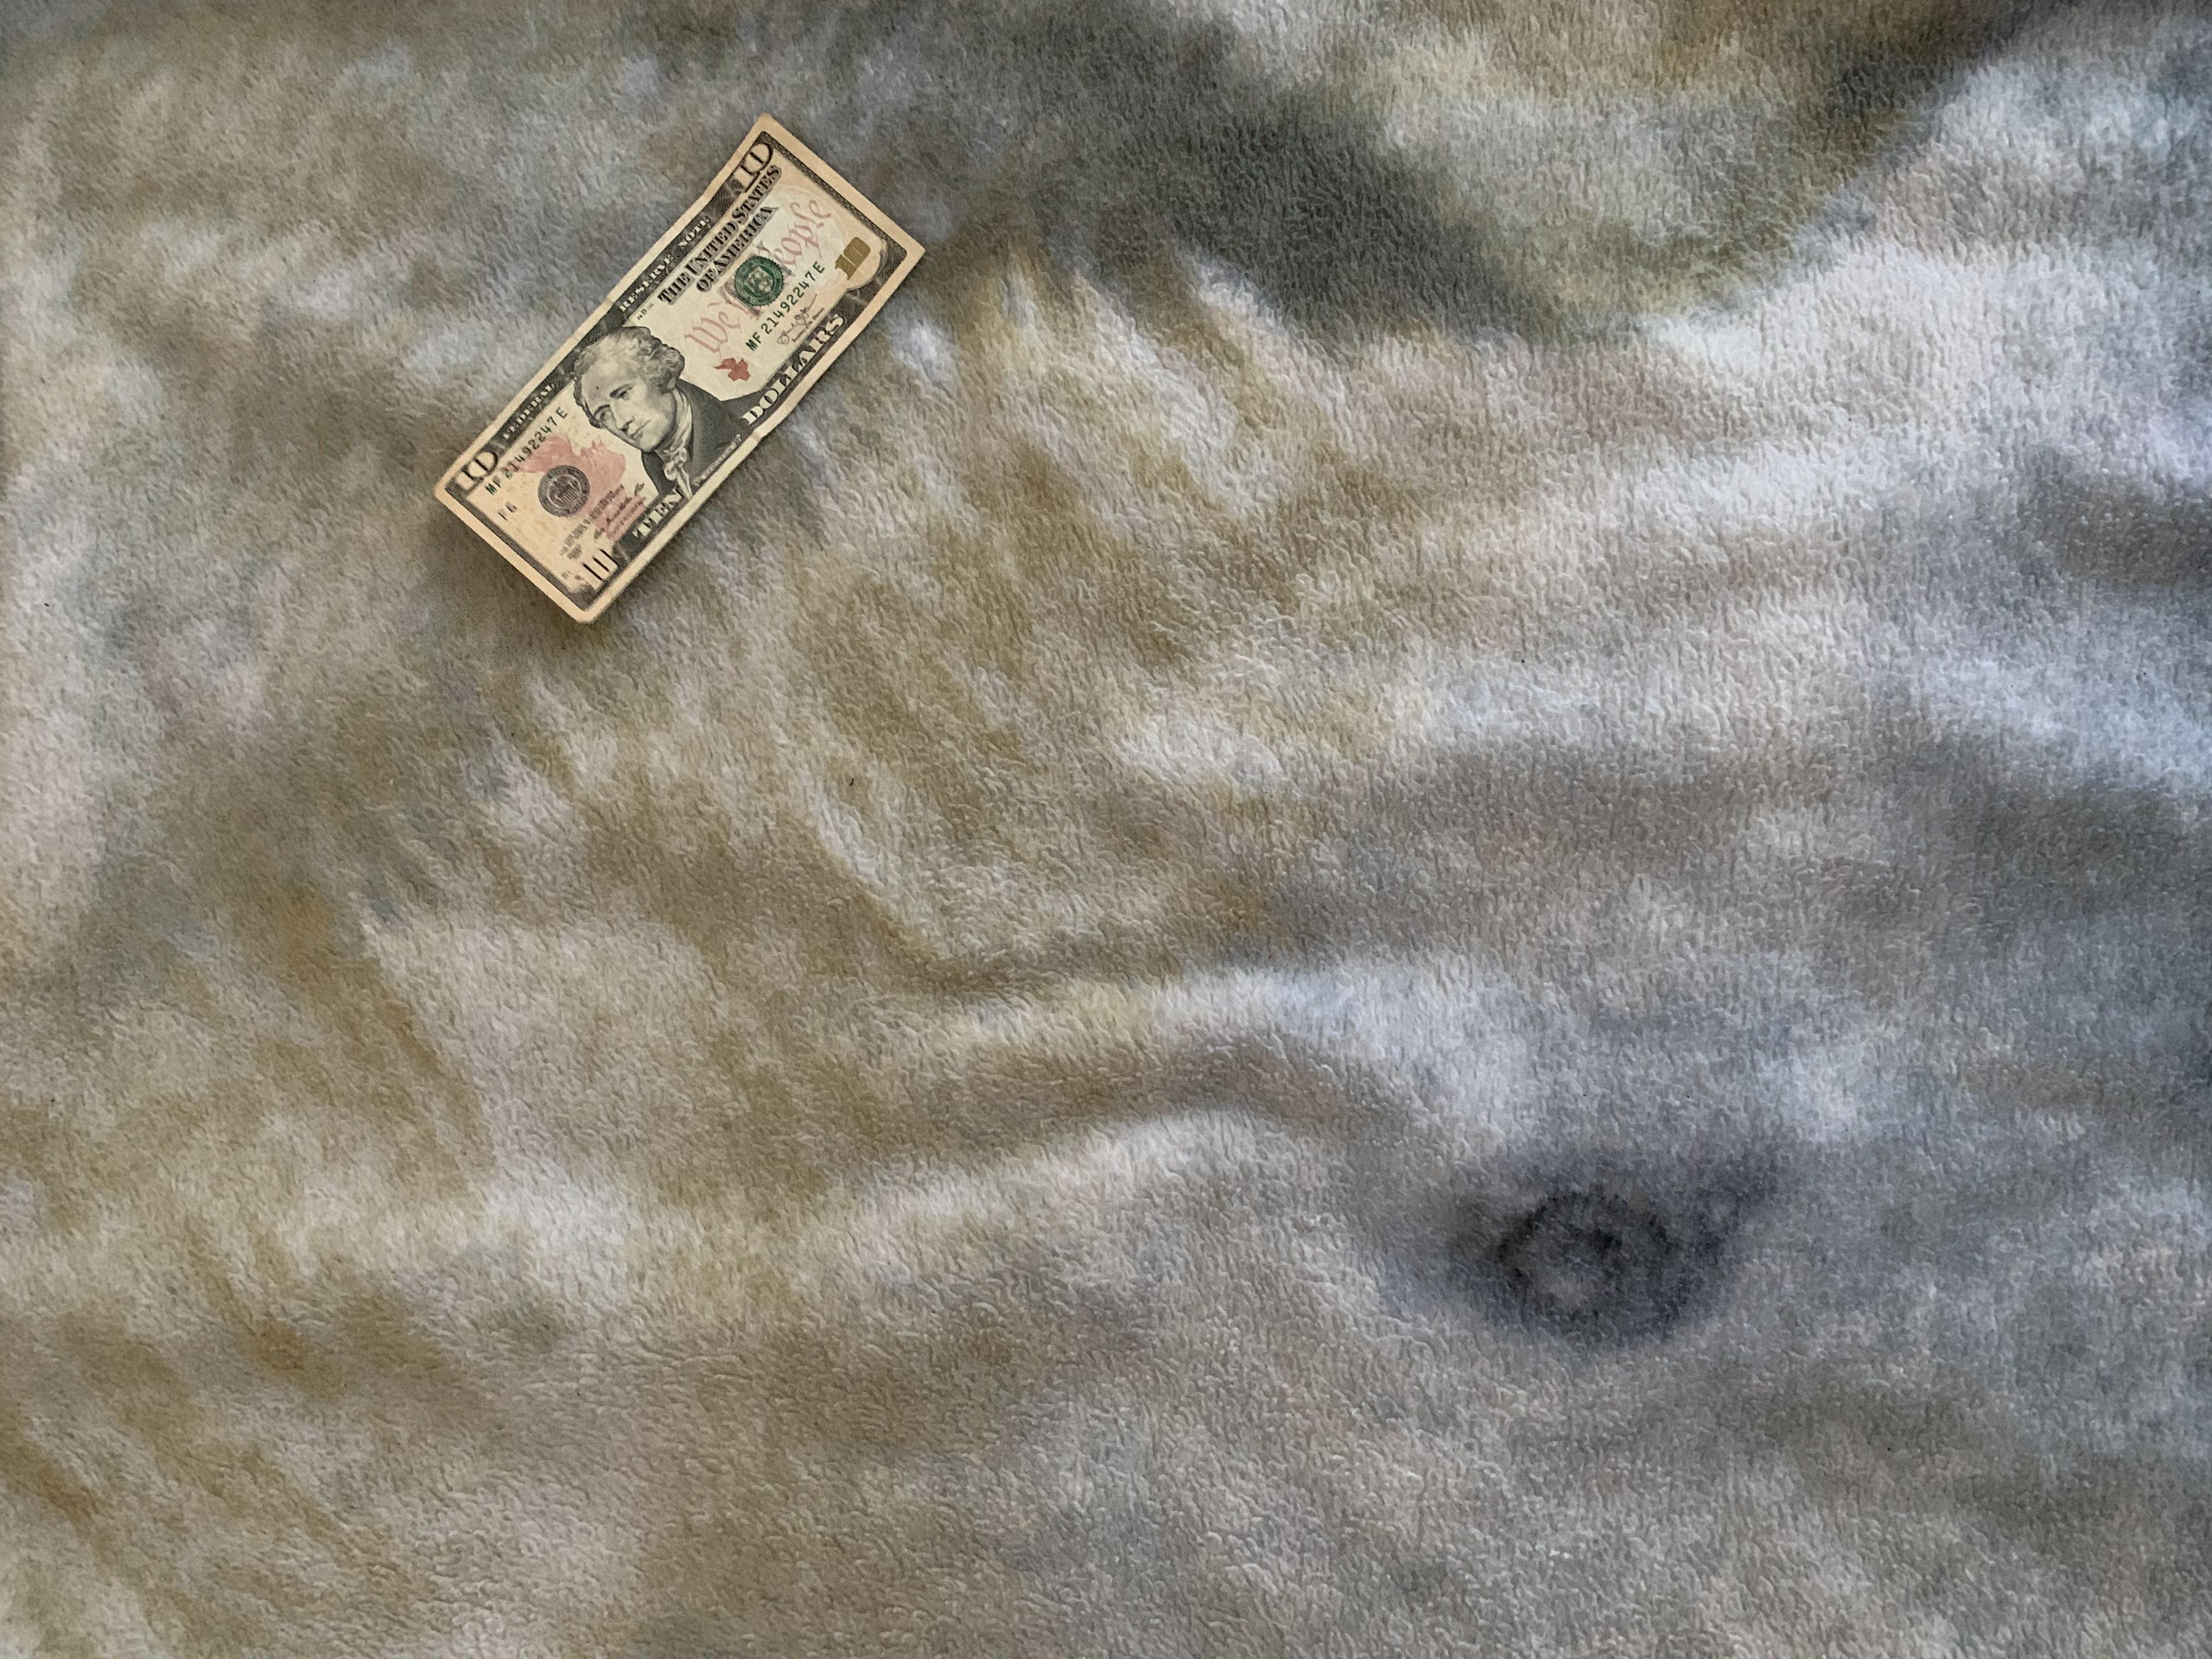TenBill: (418, 105, 934, 631)
